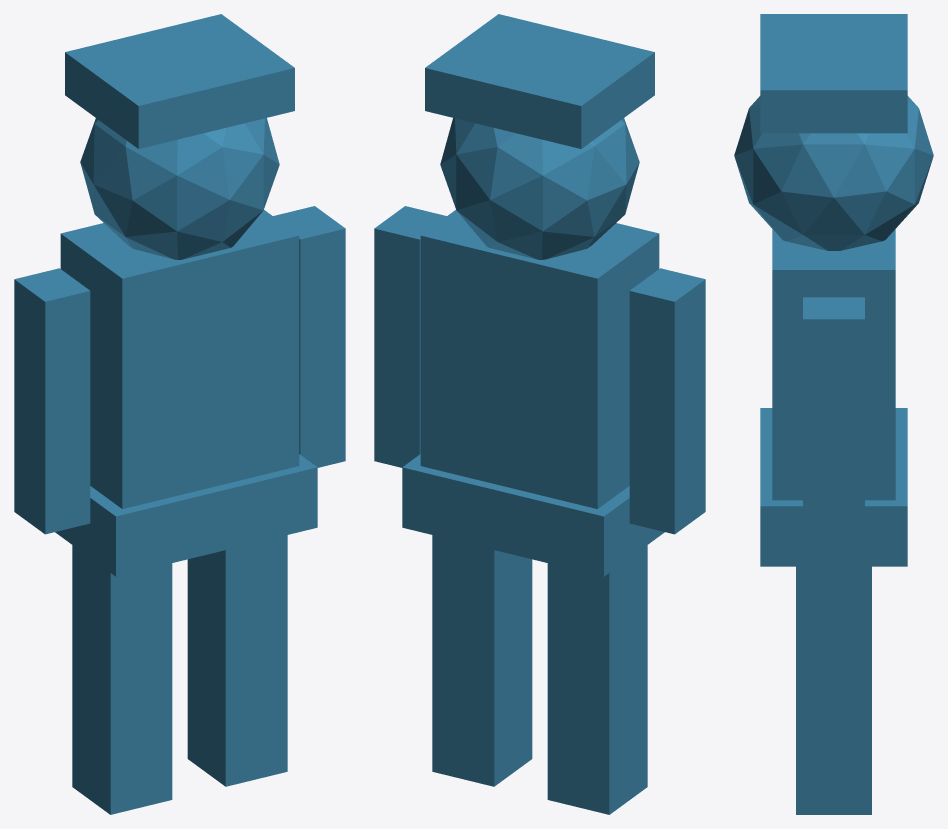
File: rstr0003_00_fi.dae
3 views of the same model, side by side, from view 1: azimuth 30°, elevation 25°; view 2: azimuth 150°, elevation 25°; view 3: azimuth 270°, elevation 25° (orthographic).
Visible parts, largest first — view 1: TrainingAvatar; view 2: TrainingAvatar; view 3: TrainingAvatar.
Part boxes in pixels (x1,y1,x2,y2): TrainingAvatar: (14,14,345,814); TrainingAvatar: (374,14,705,814); TrainingAvatar: (734,14,933,814).
Bounding box in the file's own units: 0.73 × 1.67 × 0.42.
